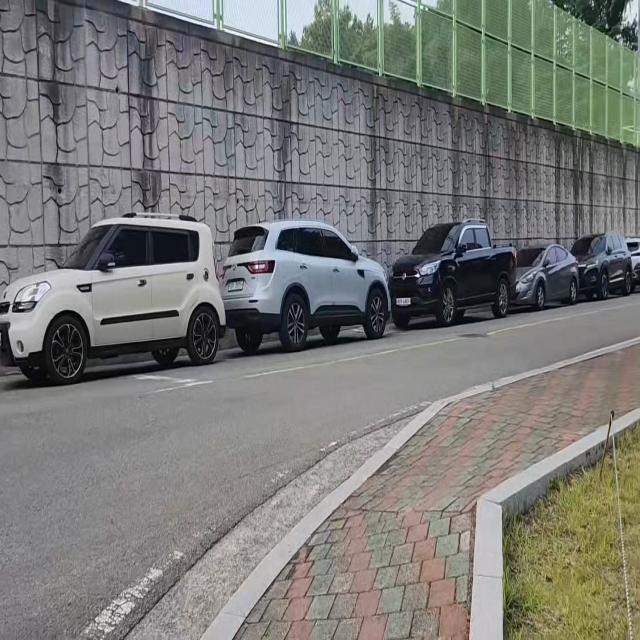obstacle: (0, 207, 229, 407), (223, 213, 398, 351), (592, 400, 622, 484)
road: (0, 289, 640, 640)
sidewalk: (211, 329, 640, 640)
